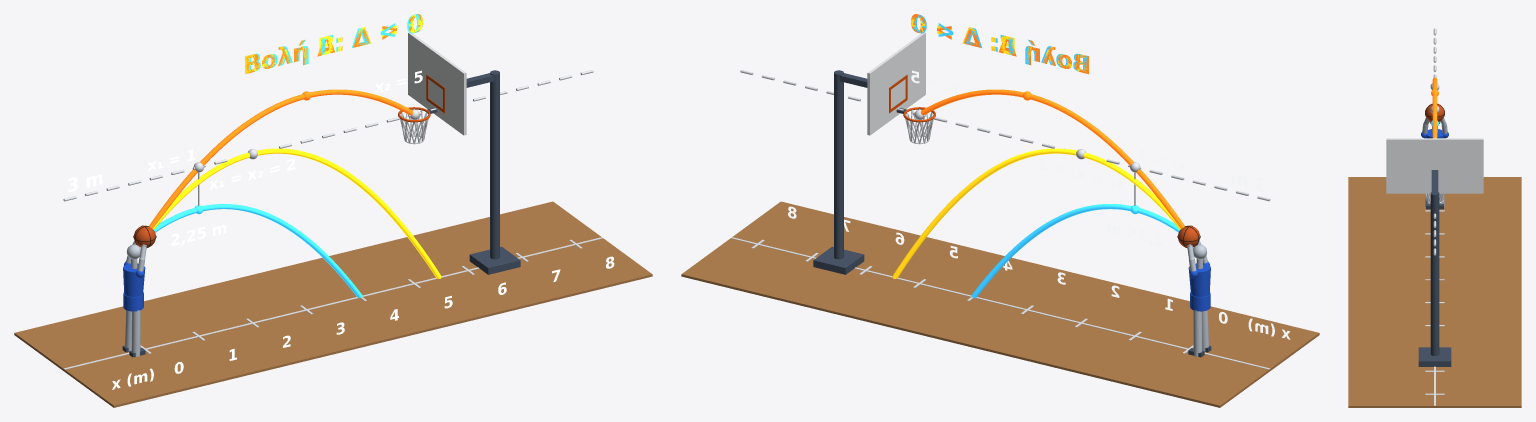
Rendered from kalathi.glb.
3 renders of one model, left to right at view 1: azimuth 30°, elevation 25°; view 2: azimuth 150°, elevation 25°; view 3: azimuth 270°, elevation 25°, orthographic. The views are drawn at different scales.
Parts seen in each view (by area): view 1: stathera, voli_A, voli_B, voli_G; view 2: stathera, voli_A, voli_B, voli_G; view 3: stathera, voli_A, mpala.
Part boxes in pixels (box(x1,y1,x2,y2)): stathera: box(14, 32, 652, 407); voli_A: box(148, 14, 422, 228); voli_B: box(153, 14, 441, 278); voli_G: box(154, 14, 420, 298); stathera: box(681, 32, 1319, 407); voli_A: box(911, 14, 1185, 228); voli_B: box(892, 16, 1180, 278); voli_G: box(913, 14, 1179, 298); stathera: box(1348, 28, 1521, 407); voli_A: box(1430, 77, 1439, 138); mpala: box(1425, 103, 1444, 121).
Size of the model in its own units: 0.4 by 0.1936 by 0.128.
